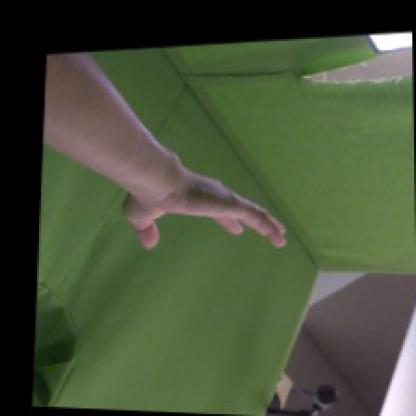Hand: (122, 160, 286, 254)
